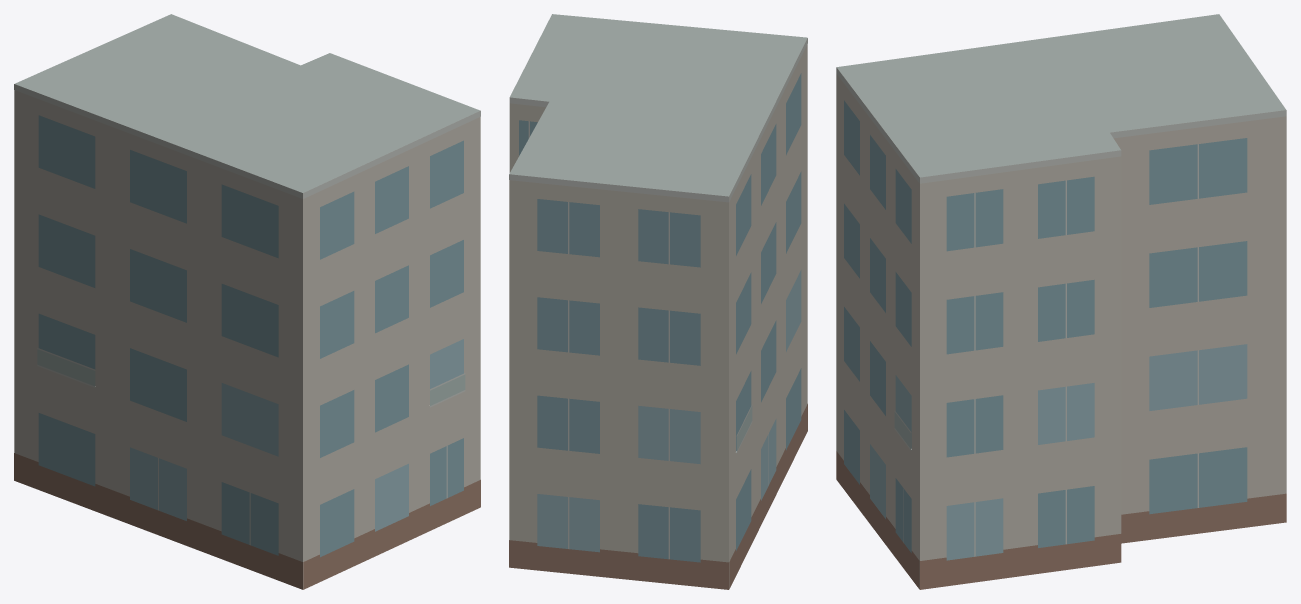
The model's file is survey-upis-32635703.glb.
3 renders of one model, left to right at view 1: azimuth 30°, elevation 25°; view 2: azimuth 150°, elevation 25°; view 3: azimuth 270°, elevation 25°, orthographic. The views are drawn at different scales.
Visible parts, largest first — view 1: survey-upis-32635703.tmp; view 2: survey-upis-32635703.tmp; view 3: survey-upis-32635703.tmp.
Boxes of the visible parts, box(x1,y1,x2,y2) form: survey-upis-32635703.tmp: box(14, 14, 480, 589); survey-upis-32635703.tmp: box(509, 14, 807, 589); survey-upis-32635703.tmp: box(836, 14, 1286, 589).
Size of the model in its own units: 13.81 by 16.22 by 16.06.
